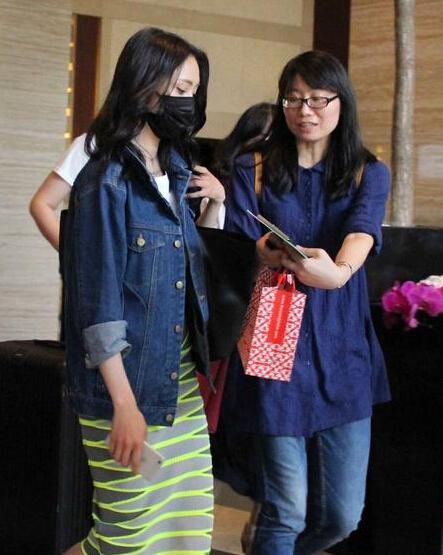NONE: (286, 87, 341, 144)
OK: (132, 67, 206, 141)
